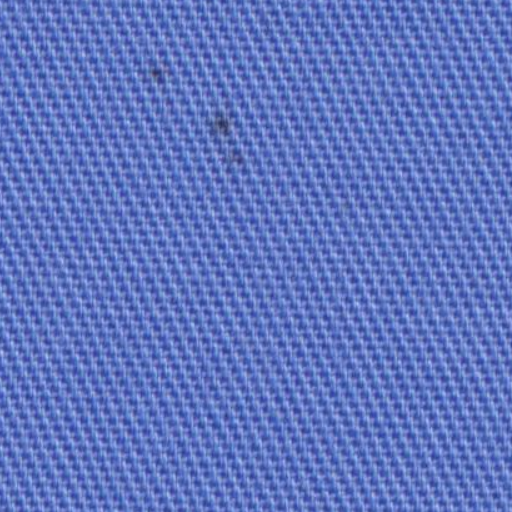WuZi: (198, 100, 258, 176), (132, 48, 181, 92)
